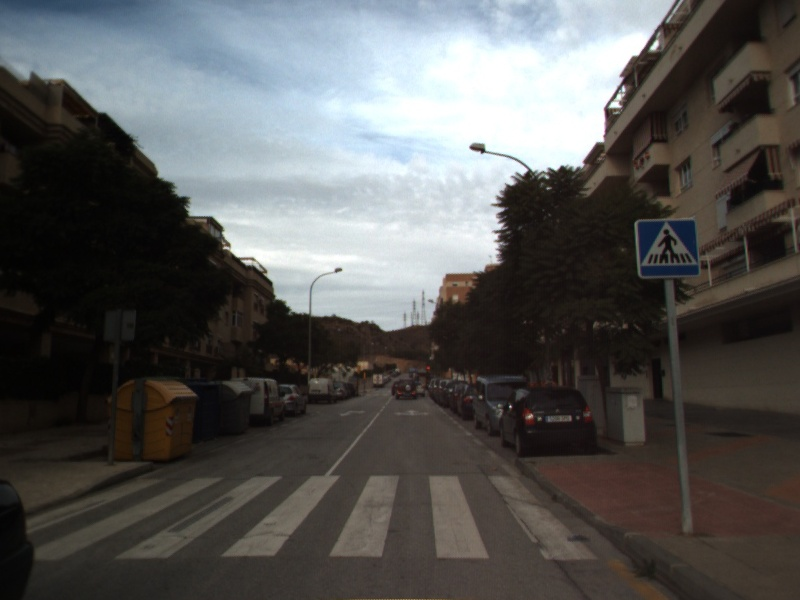STRAIGHT_LEFT_RIGHT: (392, 407, 432, 419)
